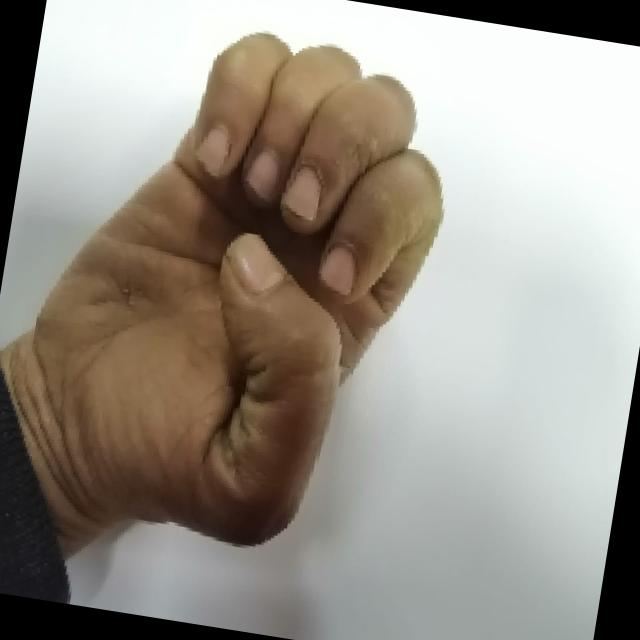Nail: (227, 233, 286, 294), (283, 166, 321, 220), (245, 149, 279, 201), (196, 125, 230, 177), (320, 246, 356, 295)
